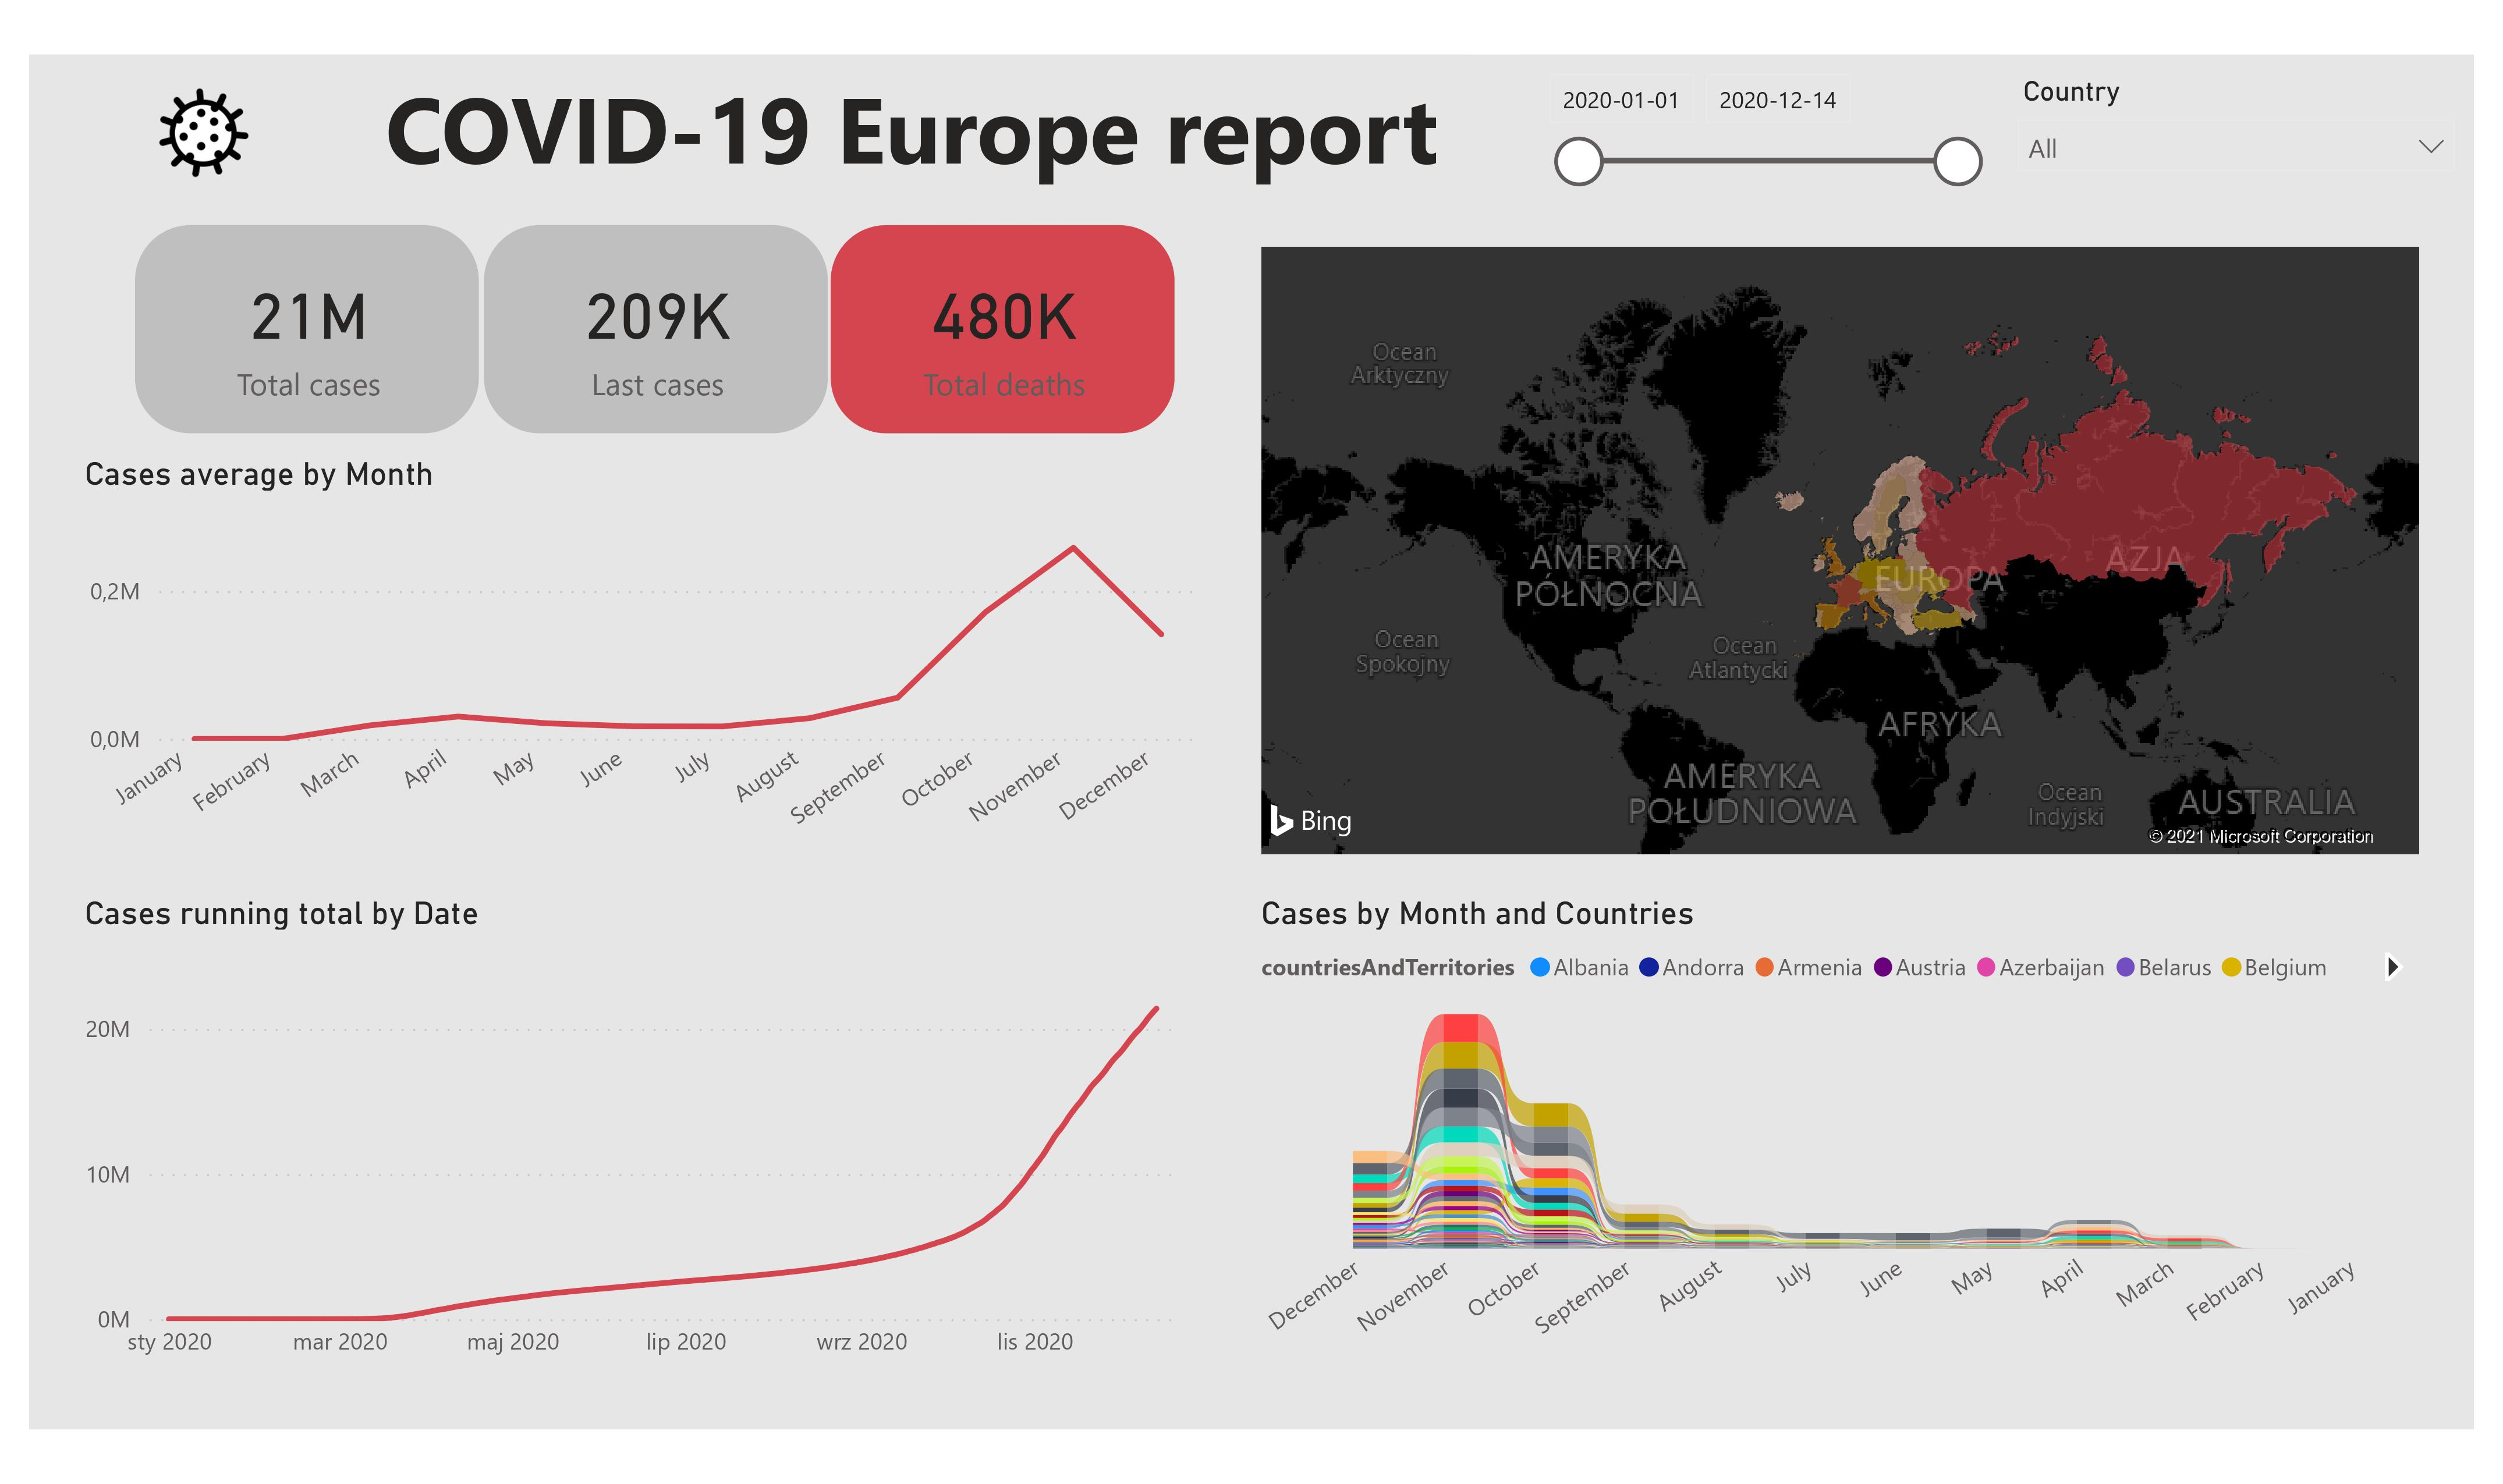

The dashboard page shown, as its layout file describes it:
{"tool":"powerbi","page":{"name":"Page 1","canvas":[1280,720],"ordinal":0},"visuals":[{"type":"lineChart","title":"Cases average by Month","fields":{"Category":["data.Week.Variation.Date Hierarchy.Year","data.Week.Variation.Date Hierarchy.Quarter","data.Week.Variation.Date Hierarchy.Month","data.Week.Variation.Date Hierarchy.Day"],"Y":["data.cases average per dateRep"]},"box":[24.6,209.5,592.3,215.3],"z":0},{"type":"filledMap","fields":{"Category":["data.countriesAndTerritories"]},"box":[640,96.1,616.7,328.2],"z":1000},{"type":"lineChart","title":"Cases running total by Date","fields":{"Category":["data.dateRep"],"Y":["data.cases running total in dateRep"]},"box":[24.6,439.2,592.3,254.3],"z":2000},{"type":"ribbonChart","title":"Cases by Month and Countries","fields":{"Category":["data.dateRep.Variation.Date Hierarchy.Month"],"Y":["Sum(data.cases)"],"Series":["data.countriesAndTerritories"]},"box":[640,439.2,616.9,254.3],"z":3000},{"type":"card","fields":{"Values":["Sum(data.cases)"]},"box":[54.9,88.6,182,111.2],"z":4000},{"type":"card","fields":{"Values":["Sum(data.cases)"]},"box":[237,88.6,182,111.2],"z":5000},{"type":"card","fields":{"Values":["Sum(data.deaths)"]},"box":[419,88.6,182,111.2],"z":6000},{"type":"textbox","box":[181.5,0,571.2,81.1],"z":7000},{"type":"image","box":[0,0,182,80.9],"z":8000},{"type":"slicer","fields":{"Values":["data.dateRep"]},"box":[782.9,0,248.1,81.1],"z":9000},{"type":"slicer","fields":{"Values":["data.countriesAndTerritories"]},"box":[1031,6.1,249.3,75],"z":10000}]}

Visuals, with their boxes on the page's 1280x720 design canvas (x1, y1, x2, y2). These are canvas units, not pixel positions in the 2503x1484 screenshot, which may show the page scaled, cropped or inside an application window:
"Cases average by Month" lineChart: 25/210/617/425
filledMap - data.countriesAndTerritories: 640/96/1257/424
"Cases running total by Date" lineChart: 25/439/617/694
"Cases by Month and Countries" ribbonChart: 640/439/1257/694
card - Sum(data.cases): 55/89/237/200
card - Sum(data.cases): 237/89/419/200
card - Sum(data.deaths): 419/89/601/200
textbox: 182/0/753/81
image: 0/0/182/81
slicer - data.dateRep: 783/0/1031/81
slicer - data.countriesAndTerritories: 1031/6/1280/81
